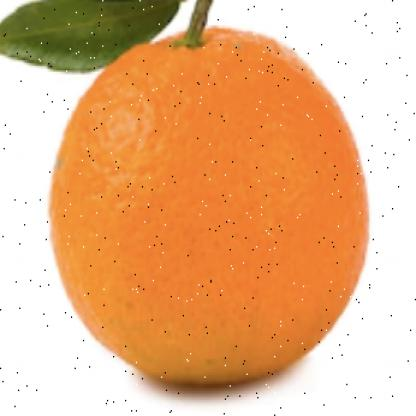orange: (37, 25, 374, 391)
